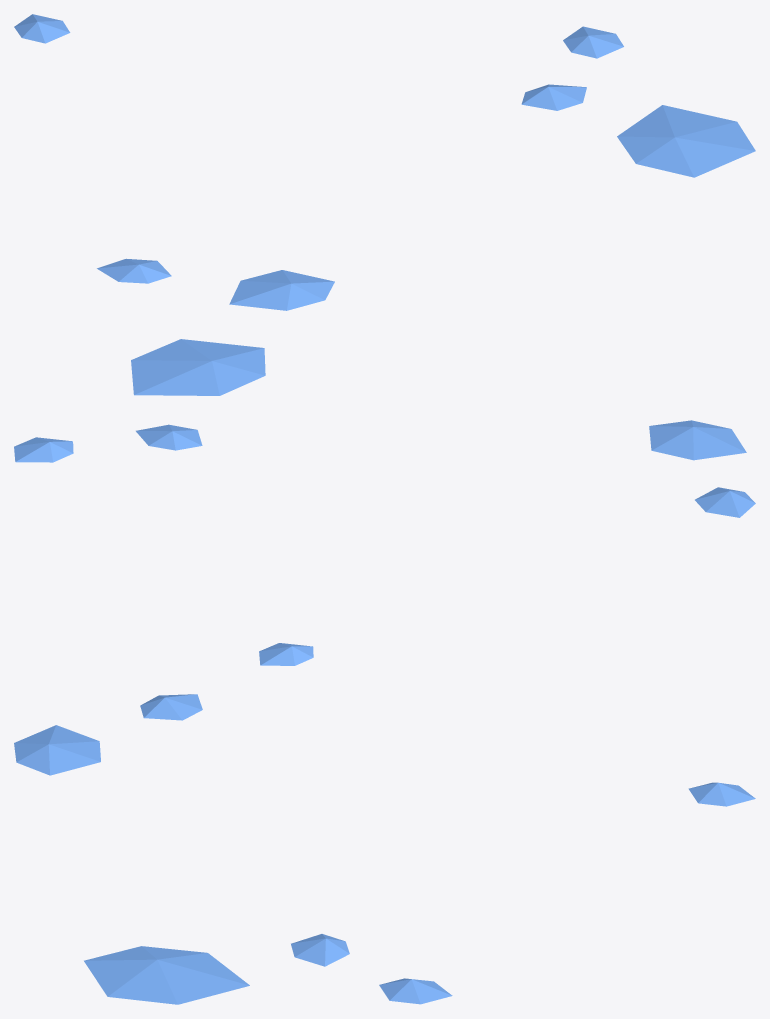
Rendered from Ectoplasm Harvested.fbx.
The picture shows the model from 3 angles, top to bottom: view 1: azimuth 30°, elevation 25°; view 2: azimuth 150°, elevation 25°; view 3: azimuth 270°, elevation 25°; orthographic projection. The views are drawn at different scales.
Parts seen in each view (by area): view 1: pCylinder9; view 2: pCylinder9; view 3: pCylinder9.
Part boxes in pixels (x1,y1,x2,y2): pCylinder9: [14, 14, 755, 310]; pCylinder9: [14, 339, 755, 665]; pCylinder9: [14, 694, 755, 1004].
Bounding box in the file's own units: 0.6445 × 0.00915 × 0.6505.
